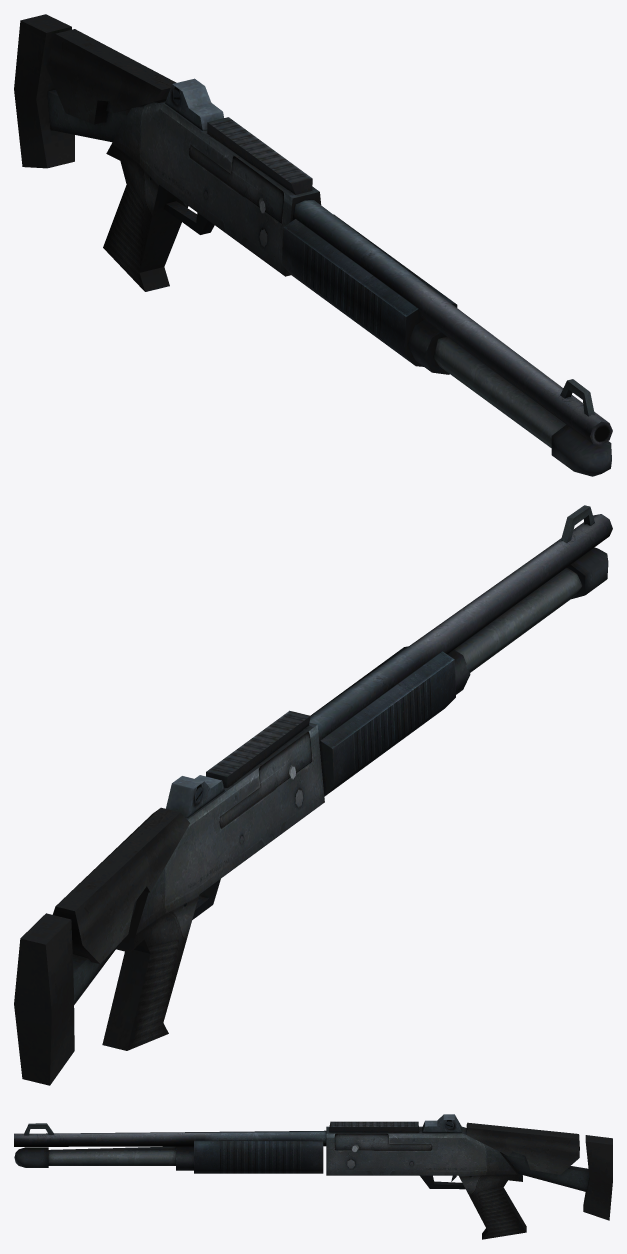
3 renders of one model, top to bottom at view 1: azimuth 30°, elevation 25°; view 2: azimuth 150°, elevation 25°; view 3: azimuth 270°, elevation 25°, orthographic. The views are drawn at different scales.
Visible parts, largest first — view 1: SMDImporter.Mesh.w_shot_xm1014; view 2: SMDImporter.Mesh.w_shot_xm1014; view 3: SMDImporter.Mesh.w_shot_xm1014.
Boxes of the visible parts, x1,y1,x2,y2 form: SMDImporter.Mesh.w_shot_xm1014: [14, 14, 612, 476]; SMDImporter.Mesh.w_shot_xm1014: [14, 505, 612, 1085]; SMDImporter.Mesh.w_shot_xm1014: [14, 1114, 612, 1239].
Size of the model in its own units: 4.92 by 19.73 by 89.82.
